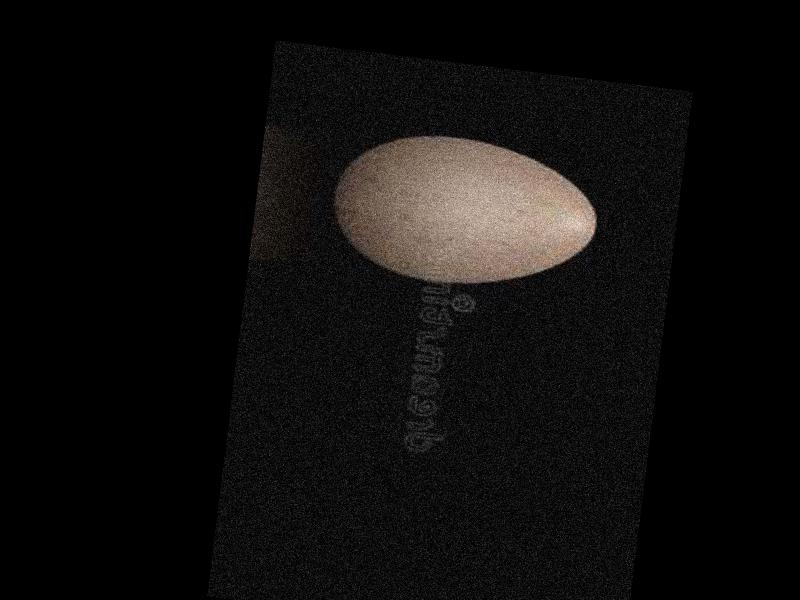Eggs: (325, 123, 606, 298)
